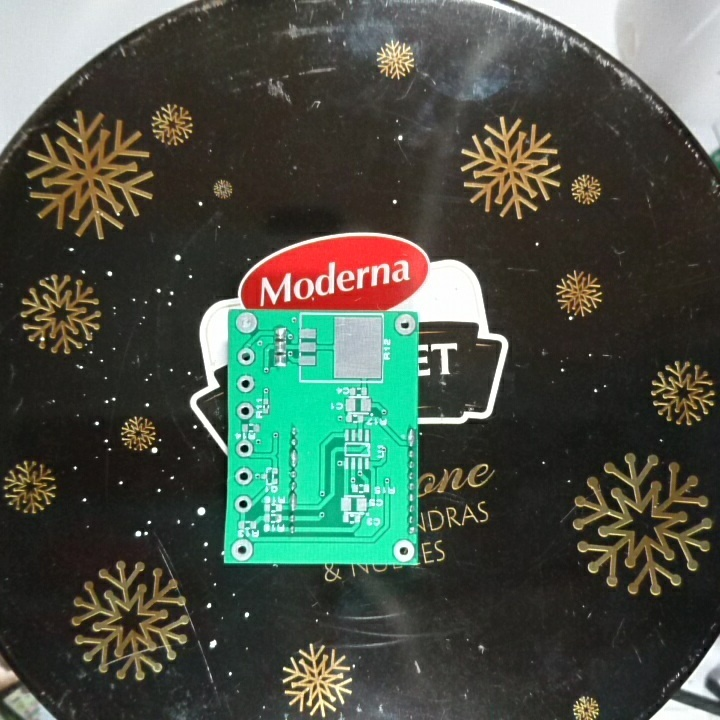F: (230, 537, 256, 563), (234, 311, 260, 336), (393, 312, 417, 338), (392, 538, 416, 561), (236, 372, 256, 396), (232, 493, 254, 514), (236, 346, 256, 369), (234, 465, 254, 488), (234, 439, 254, 460), (235, 400, 254, 420)
P: (403, 425, 417, 450), (288, 446, 301, 470), (287, 491, 299, 513)
